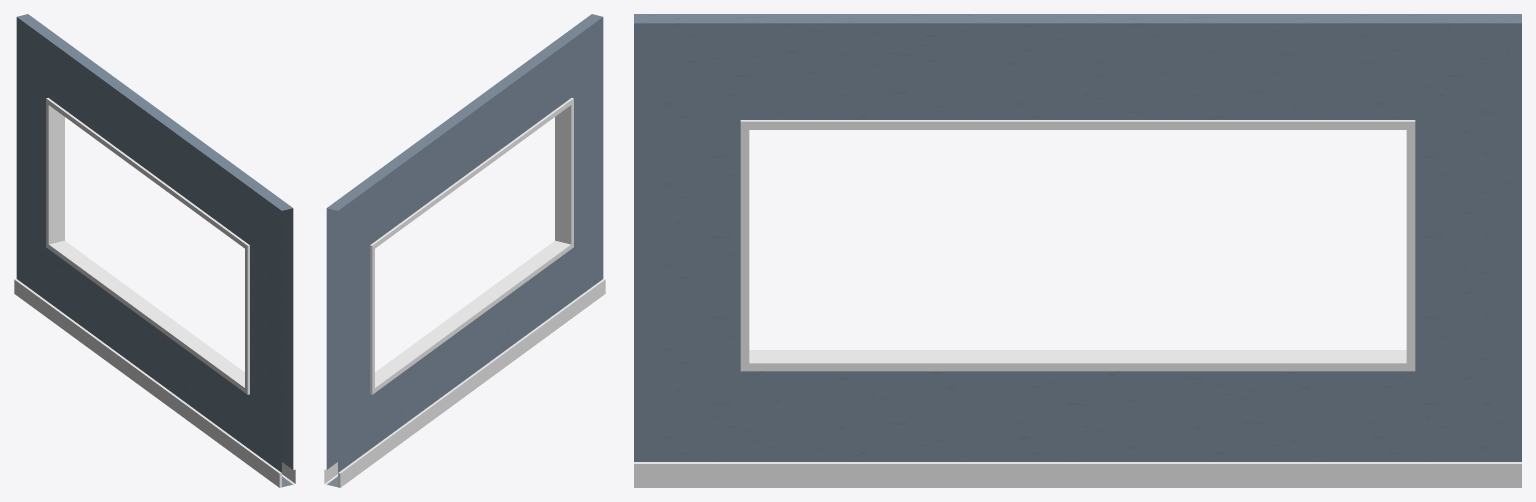
Rendered from SM_Bld_House_Wall_Window_02b.obj.
3 renders of one model, left to right at view 1: azimuth 30°, elevation 25°; view 2: azimuth 150°, elevation 25°; view 3: azimuth 270°, elevation 25°, orthographic. The views are drawn at different scales.
Visible parts, largest first — view 1: SM_Bld_House_Wall_Window_02b_mi_HouseInteriorWalls_02, SM_Bld_House_Wall_Window_02b_mi_WhiteTrim; view 2: SM_Bld_House_Wall_Window_02b_mi_HouseInteriorWalls_02, SM_Bld_House_Wall_Window_02b_mi_WhiteTrim; view 3: SM_Bld_House_Wall_Window_02b_mi_HouseInteriorWalls_02, SM_Bld_House_Wall_Window_02b_mi_WhiteTrim.
Boxes of the visible parts, box(x1,y1,x2,y2) form: SM_Bld_House_Wall_Window_02b_mi_HouseInteriorWalls_02: box(16, 14, 293, 487); SM_Bld_House_Wall_Window_02b_mi_WhiteTrim: box(14, 98, 295, 487); SM_Bld_House_Wall_Window_02b_mi_HouseInteriorWalls_02: box(326, 14, 603, 487); SM_Bld_House_Wall_Window_02b_mi_WhiteTrim: box(324, 98, 605, 487); SM_Bld_House_Wall_Window_02b_mi_HouseInteriorWalls_02: box(634, 14, 1521, 461); SM_Bld_House_Wall_Window_02b_mi_WhiteTrim: box(634, 120, 1521, 487).
Size of the model in its own units: 0.35 by 5.75 by 10.
2 materials, 1 textured.
